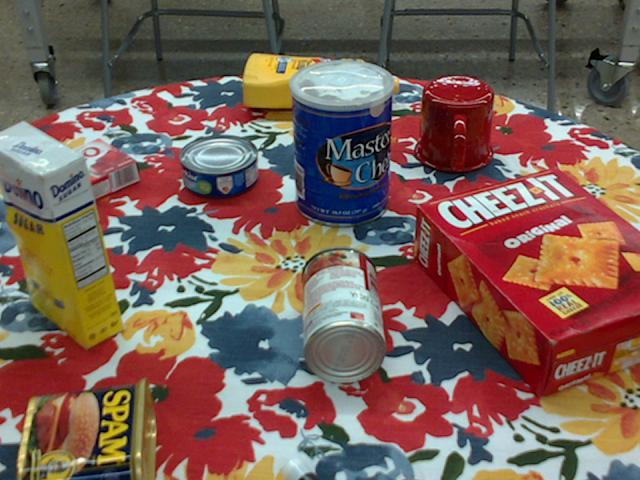cracker_box: (413, 167, 639, 399)
gelatin_box: (31, 141, 138, 212)
large_marker: (282, 457, 318, 479)
master_chef_can: (290, 60, 395, 227)
mug: (413, 76, 494, 173)
mustard_bottle: (241, 53, 397, 109)
potted_meat_can: (14, 377, 155, 479)
sugar_box: (0, 119, 122, 348)
tomato_soup_can: (299, 247, 388, 383)
tuna_fish_can: (177, 135, 257, 198)
